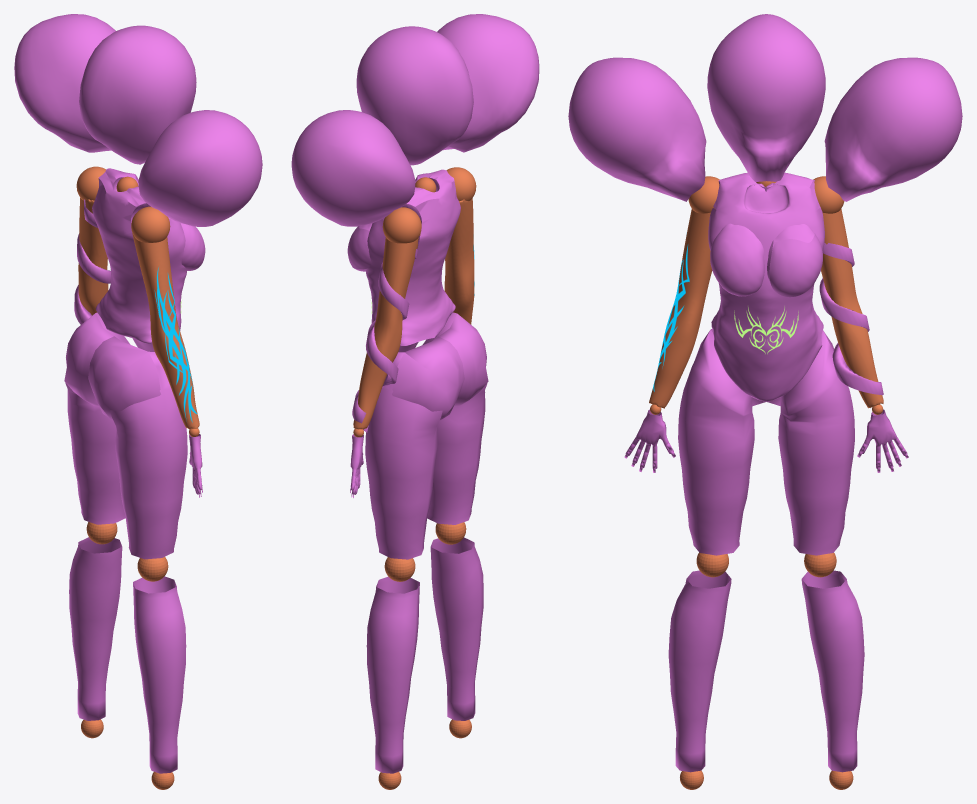
File: Modelado.glb
3 renders of one model, left to right at view 1: azimuth 30°, elevation 25°; view 2: azimuth 150°, elevation 25°; view 3: azimuth 270°, elevation 25°, orthographic. The views are drawn at different scales.
Visible parts, largest first — view 1: Plane, Sphere, Sphere.003, Cube.001, Sphere.001, Cylinder.001, Sphere.008, Vector, Sphere.006, Spiral.001, Sphere.007, Circle; view 2: Plane, Sphere, Sphere.001, Cube.001, Sphere.003, Cylinder.001, Sphere.008, Spiral.001, Sphere.006, Sphere.007, Circle; view 3: Plane, Cube.001, Sphere.003, Sphere, Sphere.001, Cylinder.001, Circle, Spiral.001, Sphere.008, Sphere.006, Sphere.007, Group (+1 smaller).
Part boxes in pixels (left/top/right/bottom): Plane: left=64, top=312, right=187, bottom=773; Sphere: left=79, top=25, right=196, bottom=164; Sphere.003: left=138, top=110, right=262, bottom=226; Cube.001: left=92, top=168, right=205, bottom=351; Sphere.001: left=14, top=14, right=115, bottom=152; Cylinder.001: left=78, top=198, right=199, bottom=429; Sphere.008: left=76, top=166, right=170, bottom=242; Vector: left=154, top=267, right=196, bottom=422; Sphere.006: left=86, top=522, right=168, bottom=581; Spiral.001: left=74, top=199, right=111, bottom=324; Sphere.007: left=81, top=719, right=174, bottom=789; Circle: left=189, top=434, right=202, bottom=497; Plane: left=365, top=312, right=488, bottom=773; Sphere: left=356, top=26, right=473, bottom=165; Sphere.001: left=291, top=110, right=415, bottom=226; Cube.001: left=347, top=169, right=460, bottom=352; Sphere.003: left=437, top=14, right=539, bottom=152; Cylinder.001: left=353, top=198, right=474, bottom=429; Sphere.008: left=382, top=167, right=476, bottom=243; Spiral.001: left=352, top=235, right=419, bottom=432; Sphere.006: left=384, top=522, right=466, bottom=581; Sphere.007: left=378, top=719, right=471, bottom=789; Circle: left=350, top=392, right=485, bottom=497; Plane: left=668, top=328, right=864, bottom=772; Cube.001: left=708, top=172, right=824, bottom=401; Sphere.003: left=568, top=57, right=706, bottom=201; Sphere: left=707, top=14, right=825, bottom=181; Sphere.001: left=824, top=57, right=962, bottom=201; Cylinder.001: left=649, top=208, right=883, bottom=408; Circle: left=624, top=409, right=908, bottom=472; Spiral.001: left=819, top=243, right=883, bottom=395; Sphere.008: left=688, top=176, right=844, bottom=213; Sphere.006: left=696, top=552, right=836, bottom=577; Sphere.007: left=680, top=770, right=853, bottom=789; Group: left=734, top=306, right=798, bottom=353.
Bounding box in the file's own units: 0.6737 × 4.29 × 1.99.
4 materials, 2 textured.
